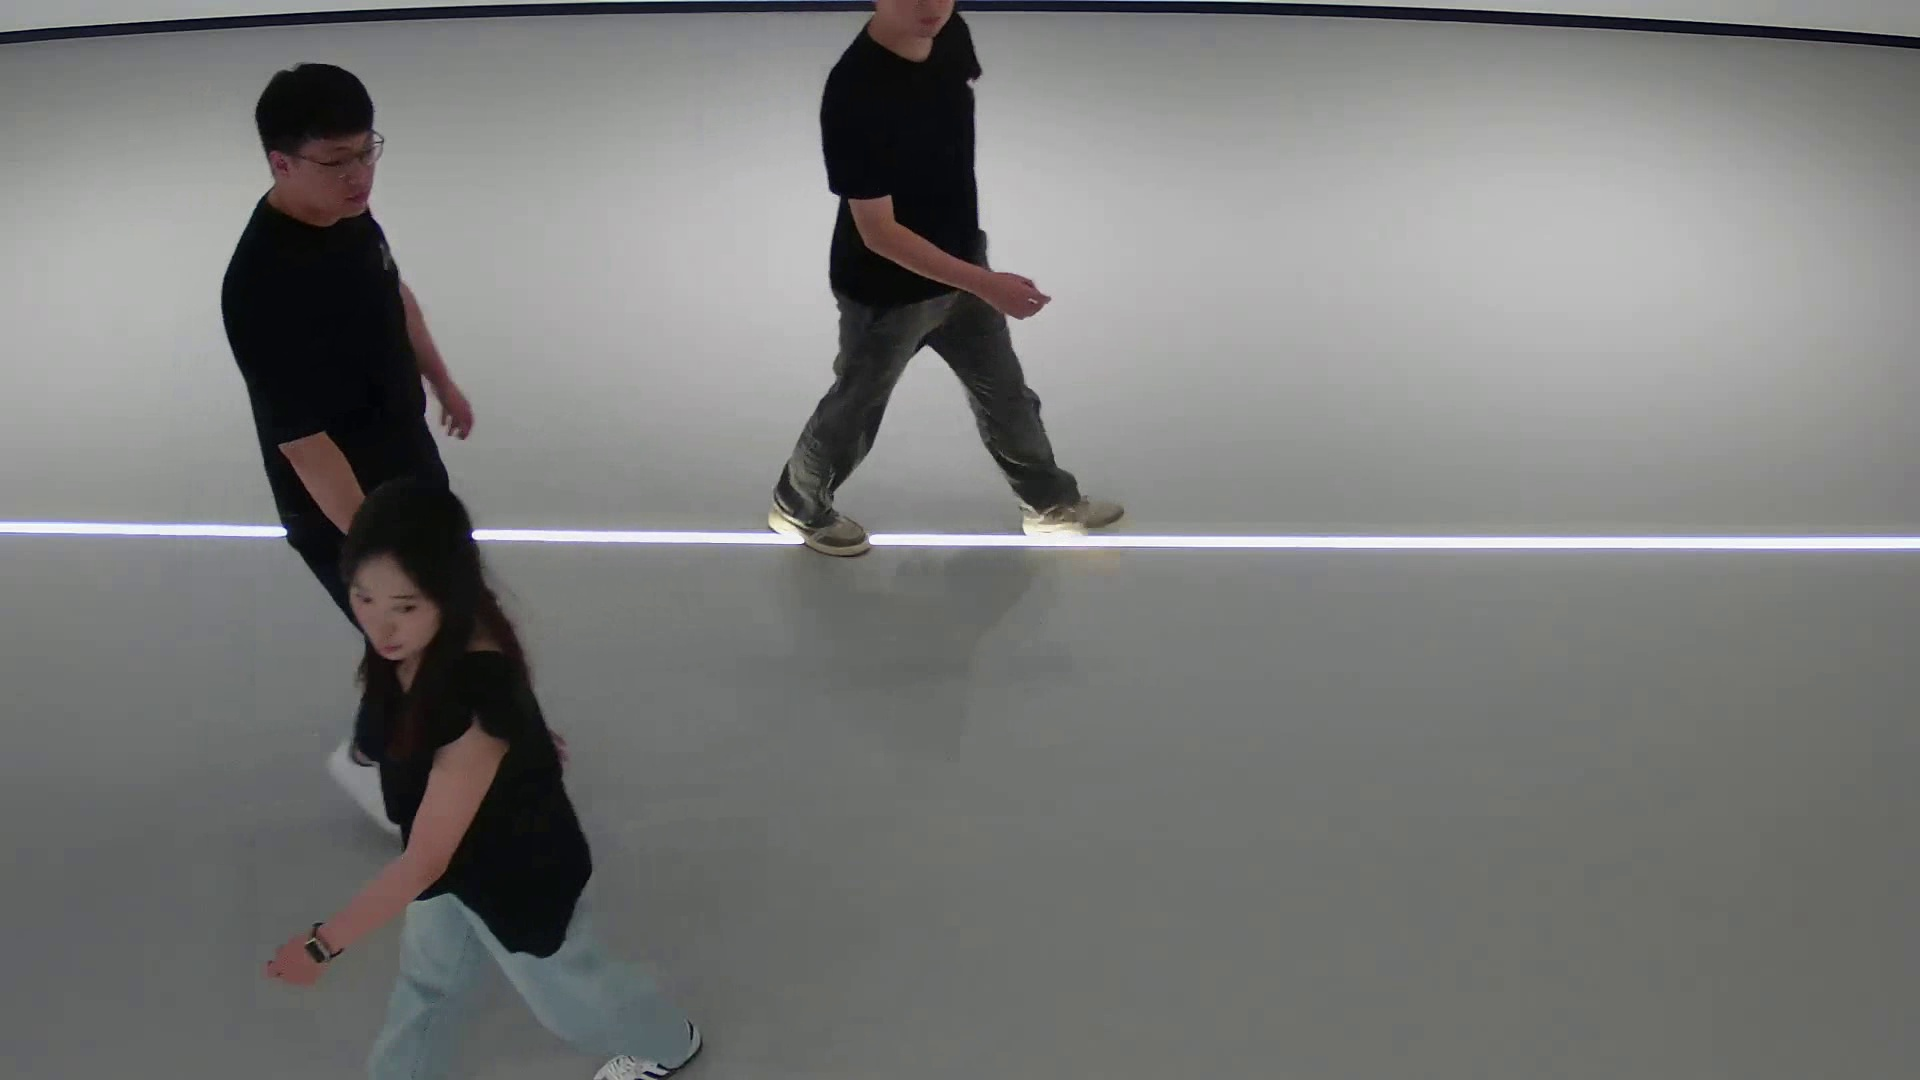normal: (225, 487, 715, 1080), (774, 7, 1139, 574), (193, 54, 492, 480)
